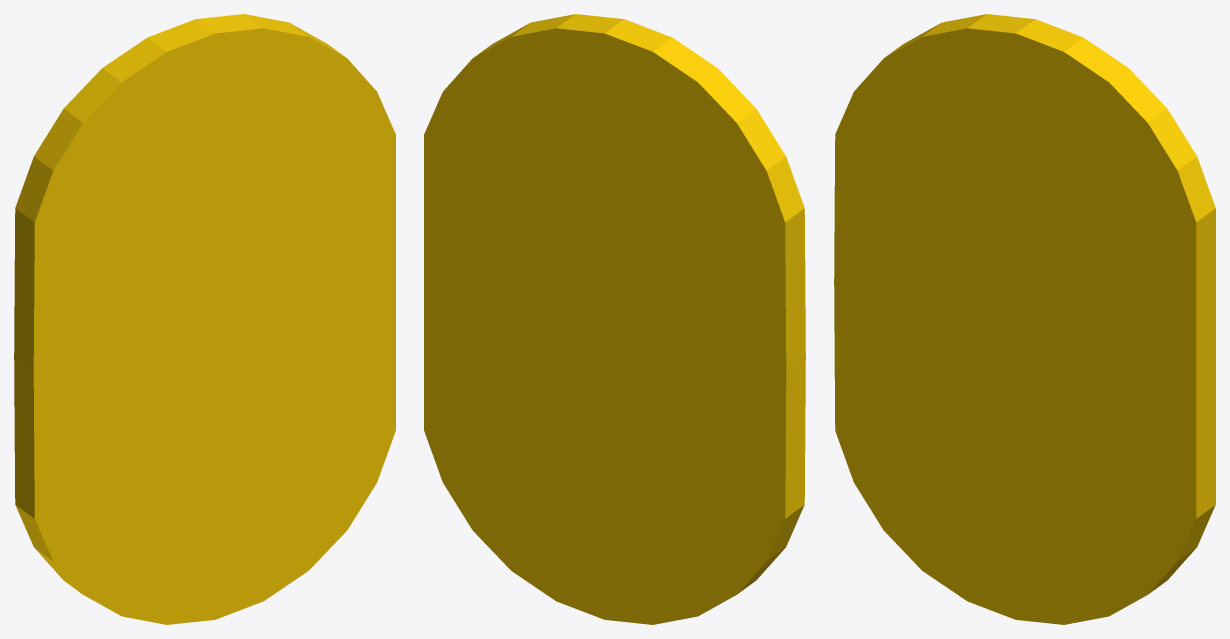
The model's file is Tag.glb.
The picture shows the model from 3 angles, left to right: view 1: azimuth 30°, elevation 25°; view 2: azimuth 150°, elevation 25°; view 3: azimuth 330°, elevation 25°; orthographic projection.
Parts seen in each view (by area): view 1: Circle; view 2: Circle; view 3: Circle.
Boxes of the visible parts, x1,y1,x2,y2 form: Circle: [14, 14, 395, 624]; Circle: [424, 14, 805, 624]; Circle: [834, 14, 1215, 624].
Bounding box in the file's own units: 3.88 × 6 × 0.3628.
